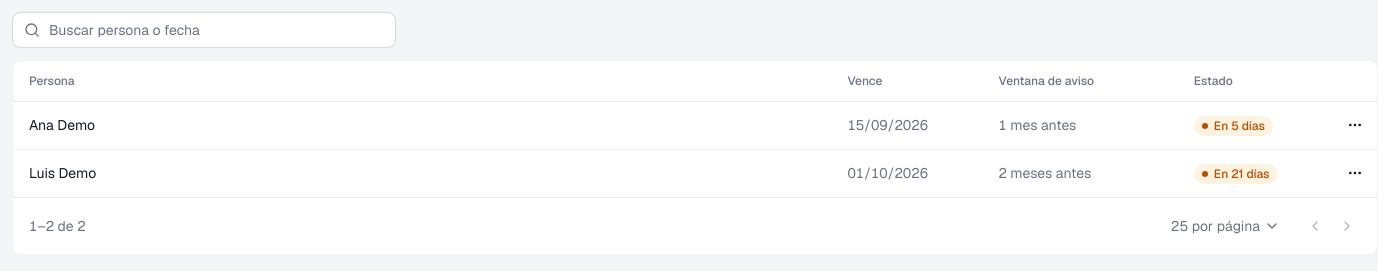
RenewalTrayList › offers only Ver expediente without update permission
The image size is (1378, 271).
Press the mouse on the button named "Acciones de Ana Demo": [1355, 125] box [1341,111,1369,139]
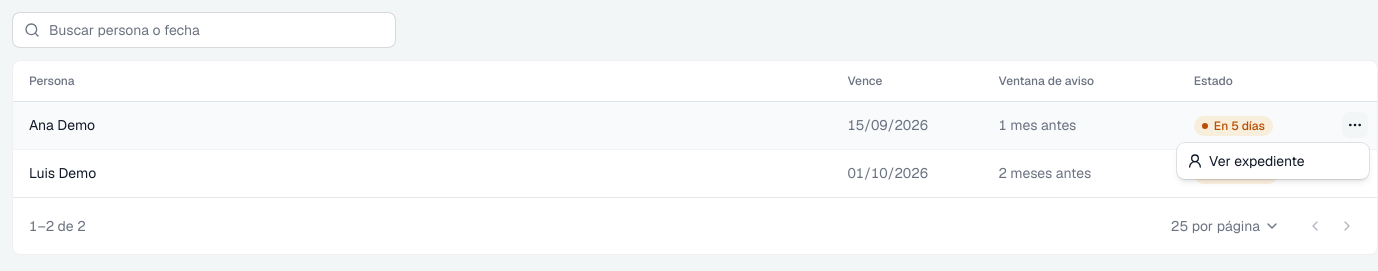
Result: the menu items read "Ver expediente", in this order at [1187,152,1305,170]
